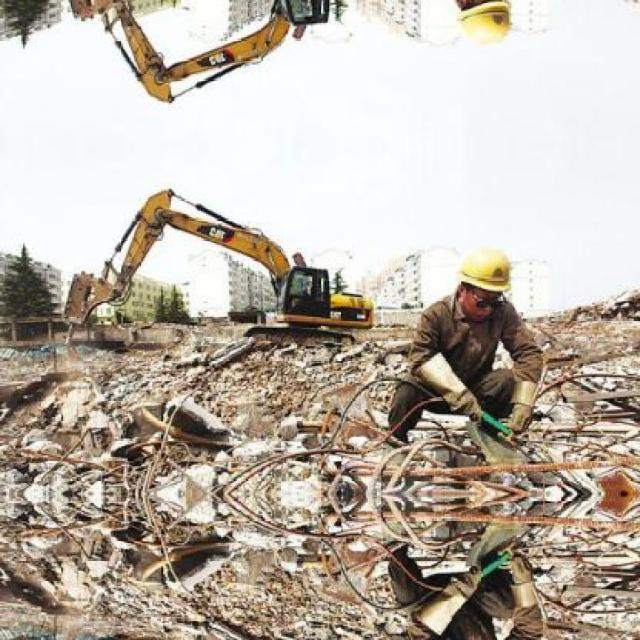helmet: (450, 238, 516, 316), (449, 0, 516, 52)
